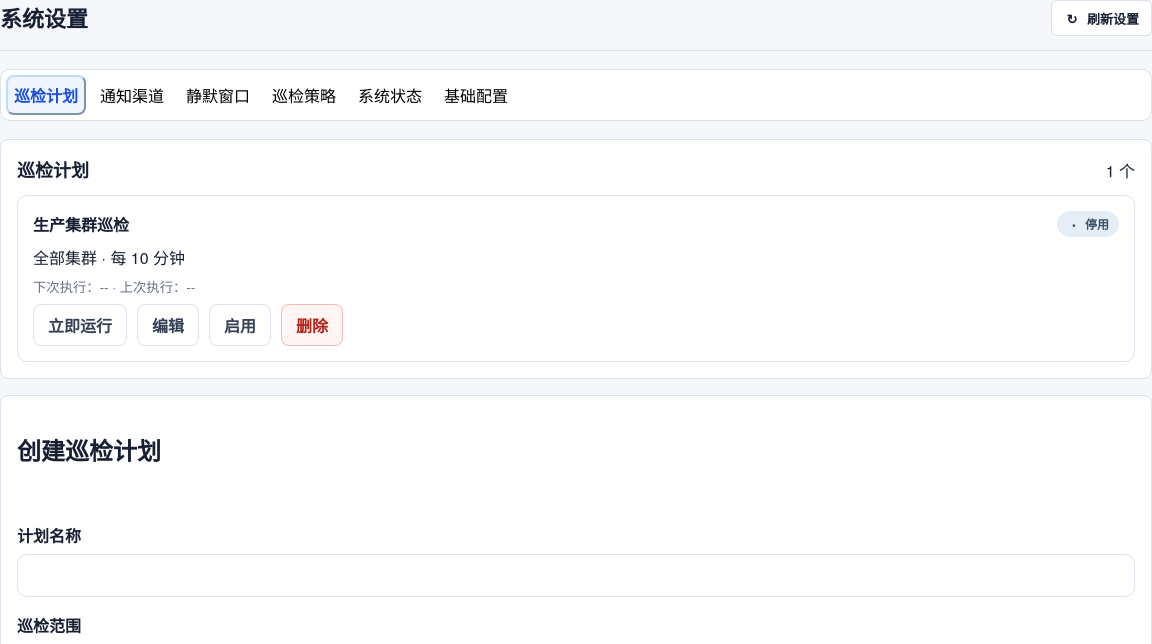
SettingsPage › labels an active plan run as running instead of healthy
Step 1. Click the button "立即运行" → (80, 325), box [33, 304, 127, 346]
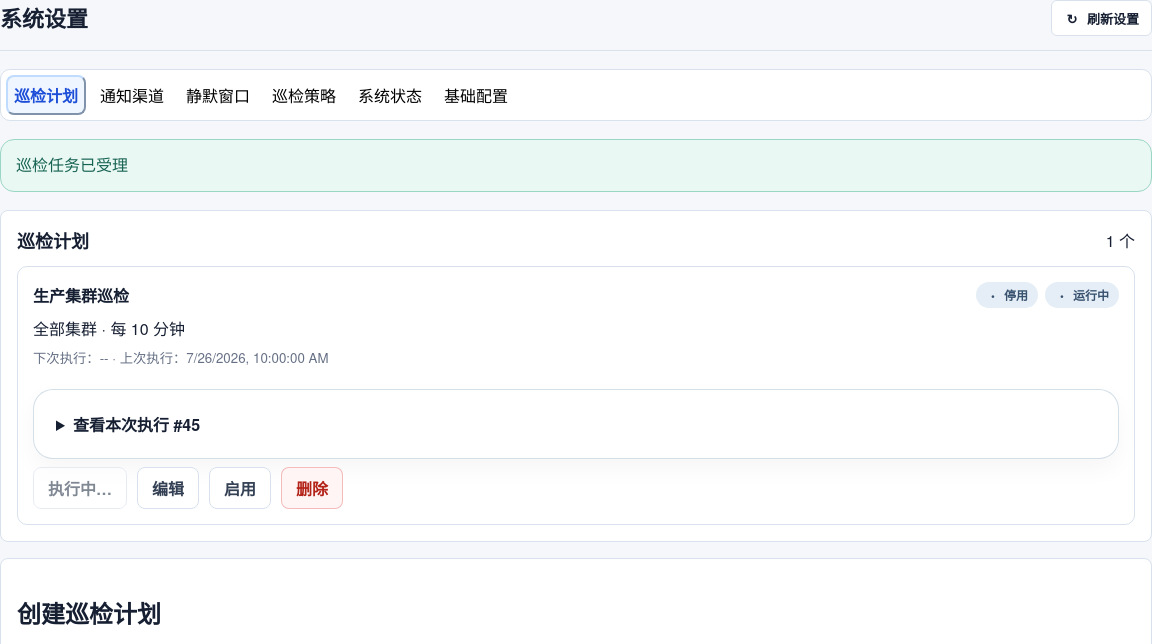
Expected: the button "执行中…" is disabled, [33, 467, 127, 509]
Expected: the text "运行中" is shown 2 times
